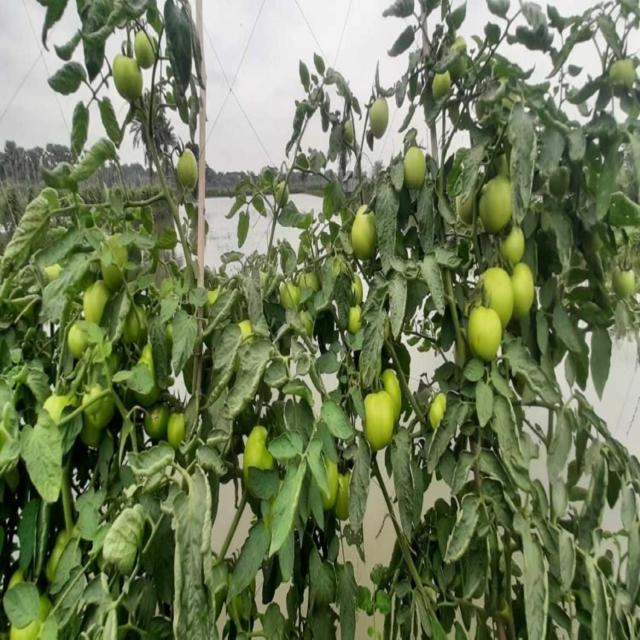tomato: (460, 296, 502, 367), (478, 172, 519, 237), (348, 198, 389, 260), (482, 266, 520, 329), (115, 48, 151, 107), (368, 88, 404, 144), (324, 454, 353, 518), (360, 394, 395, 445), (74, 280, 112, 326), (513, 261, 541, 323), (499, 218, 532, 270), (246, 420, 272, 486), (607, 270, 640, 317), (401, 138, 430, 191), (102, 234, 133, 282), (135, 26, 165, 72), (288, 255, 320, 298), (345, 303, 376, 347), (602, 55, 640, 89), (178, 144, 202, 196), (67, 319, 92, 368), (430, 66, 461, 103), (135, 404, 165, 440), (274, 276, 302, 313), (271, 168, 298, 206), (163, 413, 191, 447), (428, 391, 450, 432), (382, 370, 400, 417)
